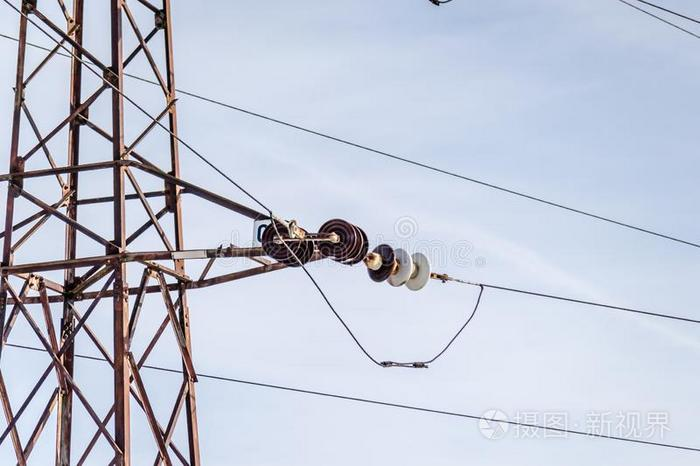insulator: (368, 244, 435, 294), (323, 218, 369, 270), (262, 223, 315, 268)
